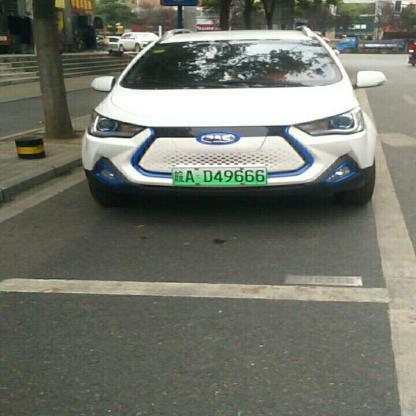lp: (172, 165, 267, 185)
